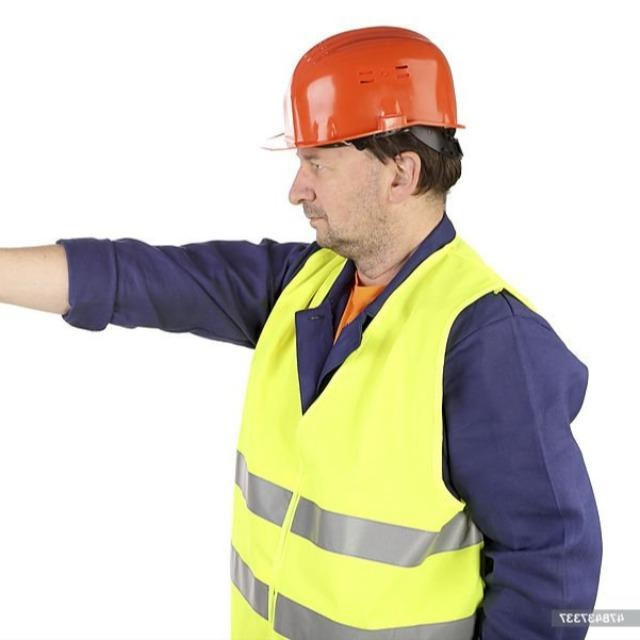Con_Casco: (266, 23, 468, 257)
Con_Chaleco: (224, 251, 533, 640)
